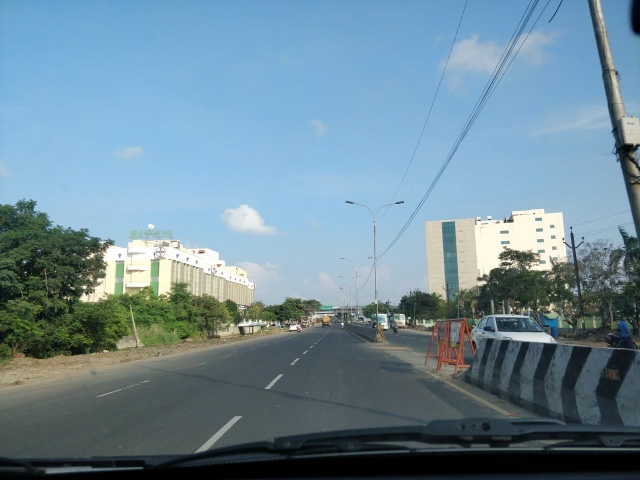bus: (367, 311, 389, 331)
car: (468, 313, 564, 359), (287, 321, 302, 334)
motorbike: (606, 315, 637, 352), (391, 320, 403, 336), (337, 318, 349, 332)
truck: (319, 313, 333, 330)
